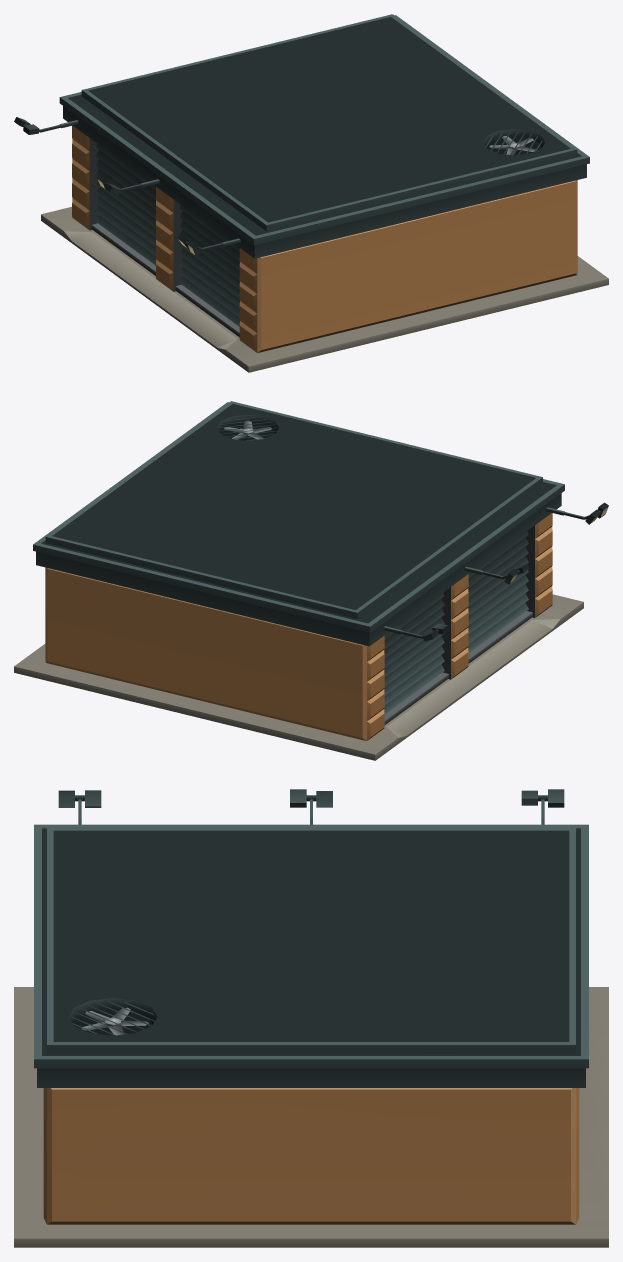
The model's file is Garage_1A.fbx.
3 views of the same model, one above another, from view 1: azimuth 30°, elevation 25°; view 2: azimuth 150°, elevation 25°; view 3: azimuth 270°, elevation 25° (orthographic). The views are drawn at different scales.
Visible parts, largest first — view 1: Garage_1A, Garage_1A_Door.R, Garage_1A_Door.L; view 2: Garage_1A, Garage_1A_Door.L, Garage_1A_Door.R; view 3: Garage_1A, Garage_1A_Fan.
Part boxes in pixels (<box>): Garage_1A: <box>14,14,608,372</box>; Garage_1A_Door.R: <box>175,205,239,337</box>; Garage_1A_Door.L: <box>91,144,155,275</box>; Garage_1A: <box>14,401,608,760</box>; Garage_1A_Door.L: <box>384,593,448,724</box>; Garage_1A_Door.R: <box>468,531,532,663</box>; Garage_1A: <box>14,789,608,1247</box>; Garage_1A_Fan: <box>81,1007,148,1035</box>.
Bounding box in the file's own units: 2012 × 630 × 1800.
